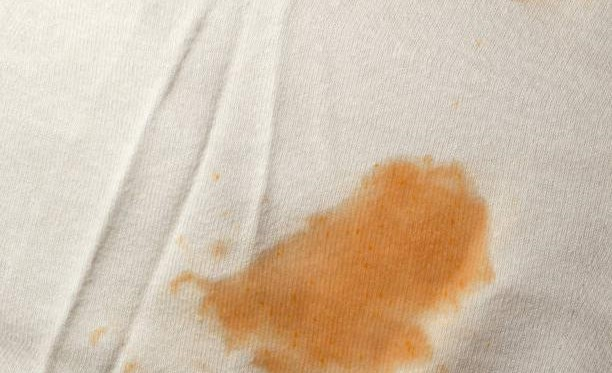stain: (175, 155, 501, 373), (85, 321, 109, 347), (117, 360, 154, 373)
